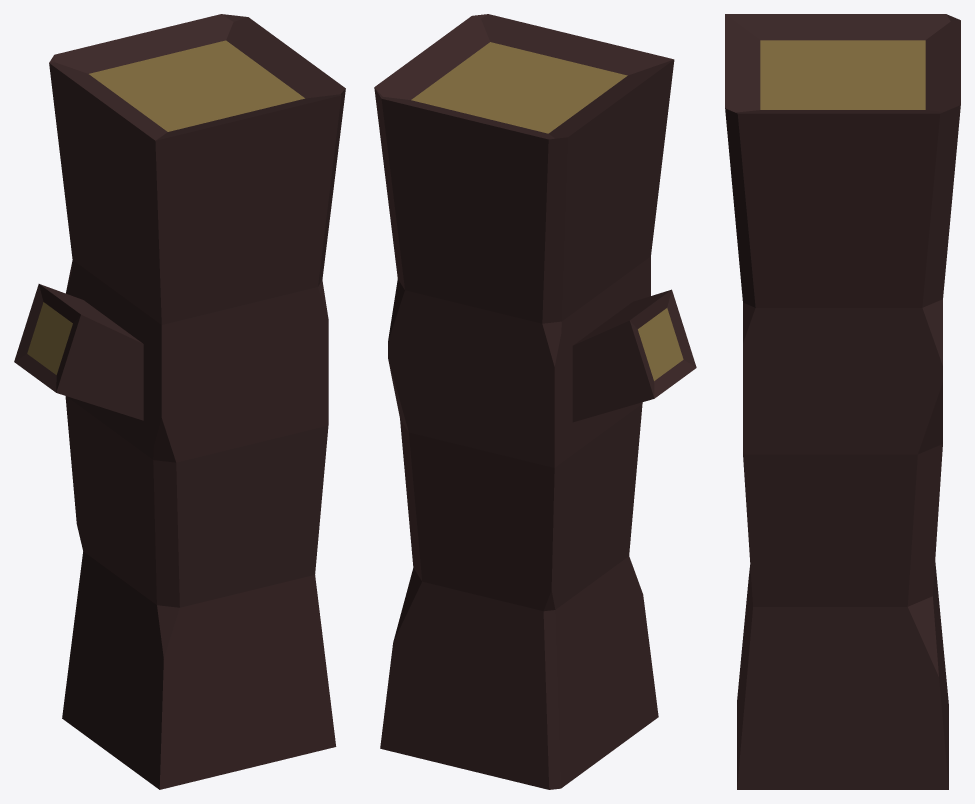
File: treeTrunk.fbx
3 views of the same model, side by side, from view 1: azimuth 30°, elevation 25°; view 2: azimuth 150°, elevation 25°; view 3: azimuth 270°, elevation 25° (orthographic). The views are drawn at different scales.
Parts seen in each view (by area): view 1: Cube; view 2: Cube; view 3: Cube.
Part boxes in pixels (x1,y1,x2,y2): Cube: (14, 14, 345, 789); Cube: (374, 14, 696, 789); Cube: (725, 14, 960, 789).
Size of the model in its own units: 262 by 638 by 200.
